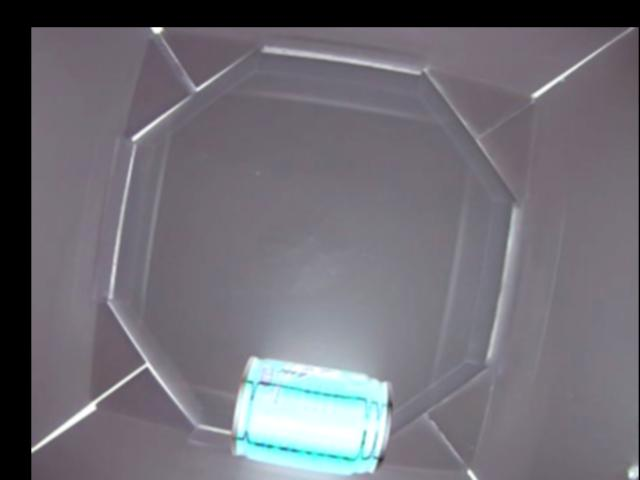Bottle: (231, 358, 396, 476)
